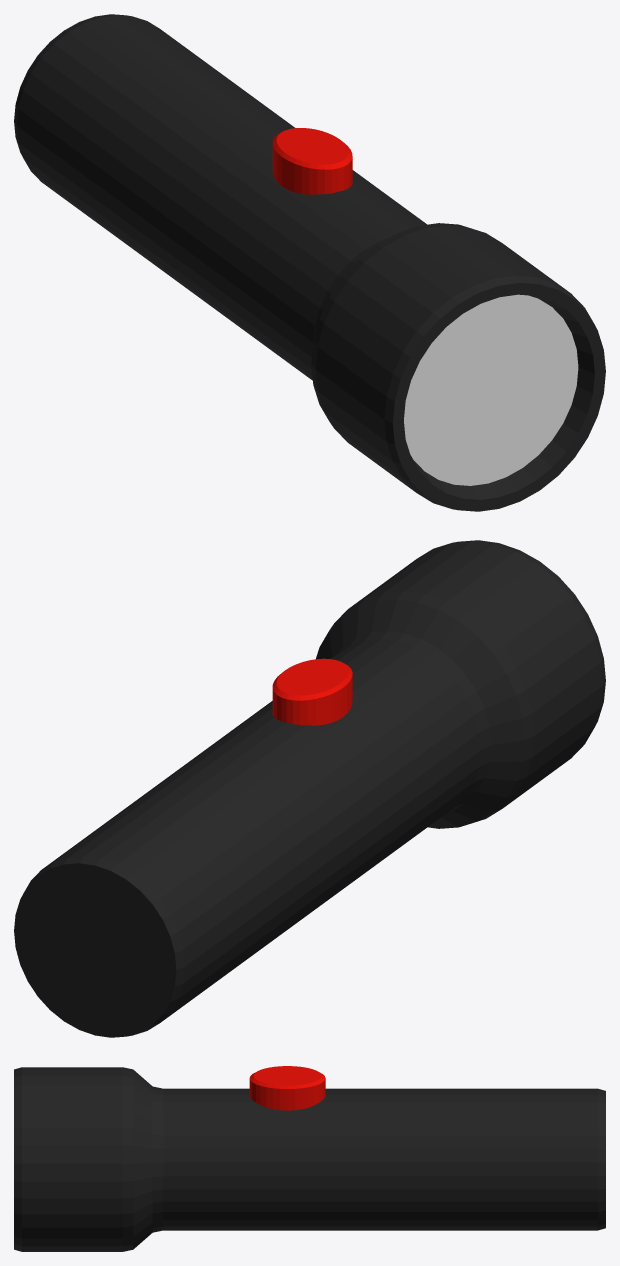
The model's file is FlashLight1.fbx.
3 renders of one model, top to bottom at view 1: azimuth 30°, elevation 25°; view 2: azimuth 150°, elevation 25°; view 3: azimuth 270°, elevation 25°, orthographic. The views are drawn at different scales.
Visible parts, largest first — view 1: Cylinder, Cylinder.001; view 2: Cylinder, Cylinder.001; view 3: Cylinder, Cylinder.001.
Part boxes in pixels (x1,y1,x2,y2): Cylinder: (14, 14, 605, 511); Cylinder.001: (272, 128, 352, 194); Cylinder: (14, 540, 605, 1037); Cylinder.001: (272, 658, 352, 725); Cylinder: (14, 1067, 605, 1251); Cylinder.001: (249, 1066, 325, 1110).
Size of the model in its own units: 260 by 260 by 834.
